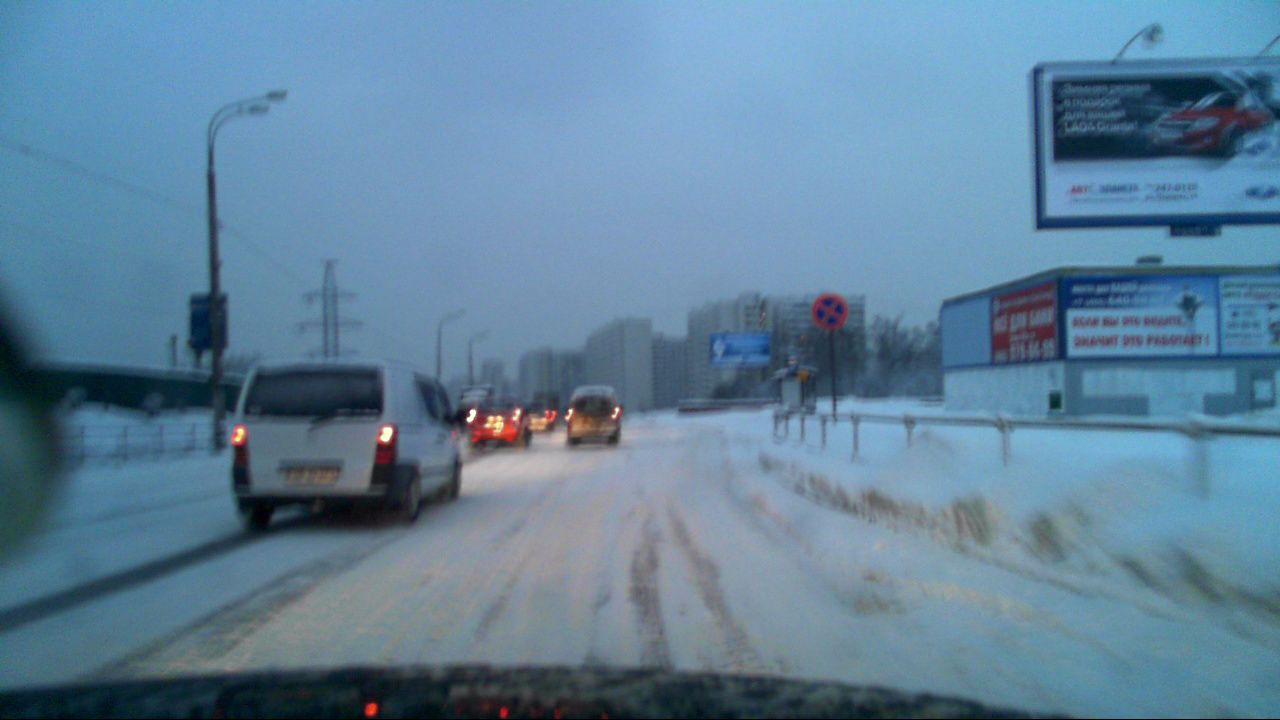No Parking: (811, 290, 847, 324)
